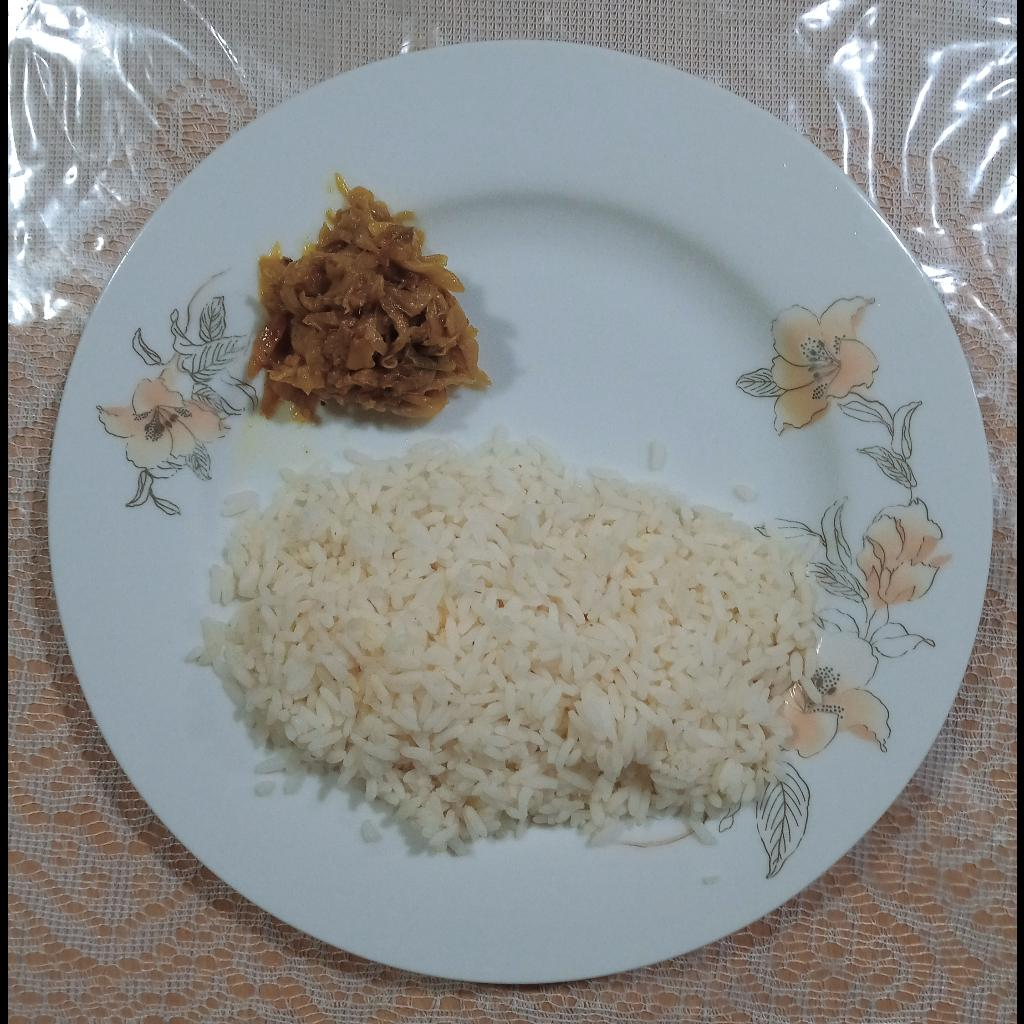cabbage: (242, 190, 491, 429)
rice: (184, 423, 821, 857)
